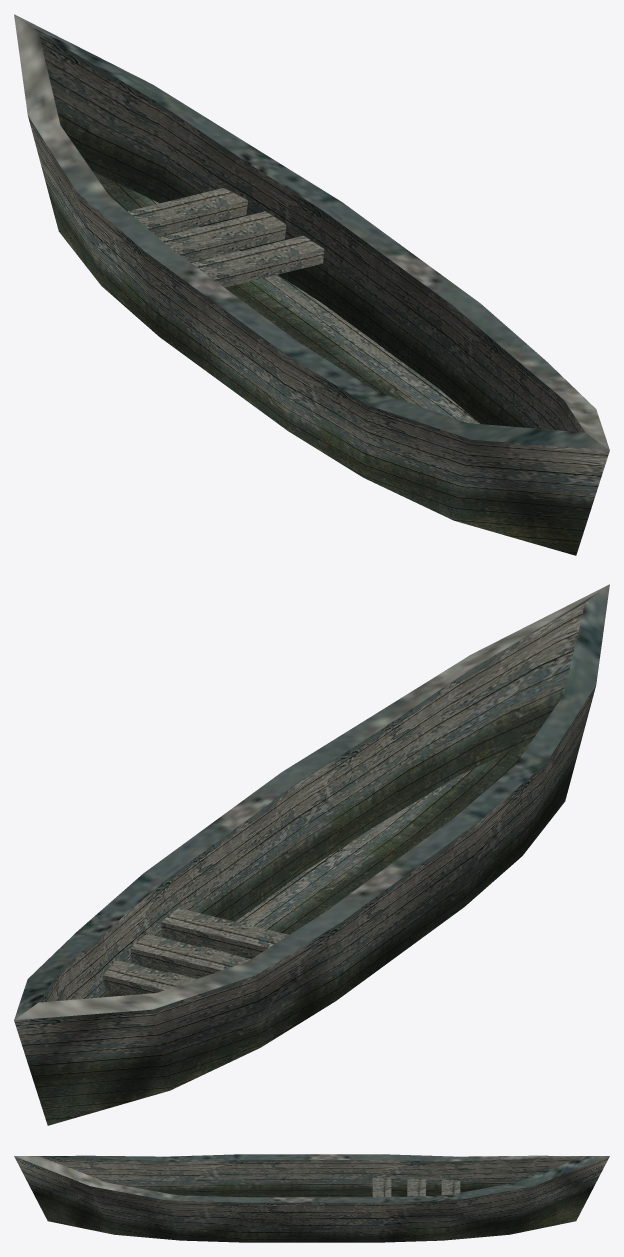
File: skiff03.glb
The picture shows the model from 3 angles, top to bottom: view 1: azimuth 30°, elevation 25°; view 2: azimuth 150°, elevation 25°; view 3: azimuth 270°, elevation 25°; orthographic projection. The views are drawn at different scales.
Visible parts, largest first — view 1: _skiff03; view 2: _skiff03; view 3: _skiff03.
Part boxes in pixels (box(x1,y1,x2,y2)): _skiff03: box(14, 14, 609, 555); _skiff03: box(14, 584, 609, 1125); _skiff03: box(14, 1154, 609, 1242).
Bounding box in the file's own units: 3 × 2.23 × 15.59.
1 material, 1 textured.
